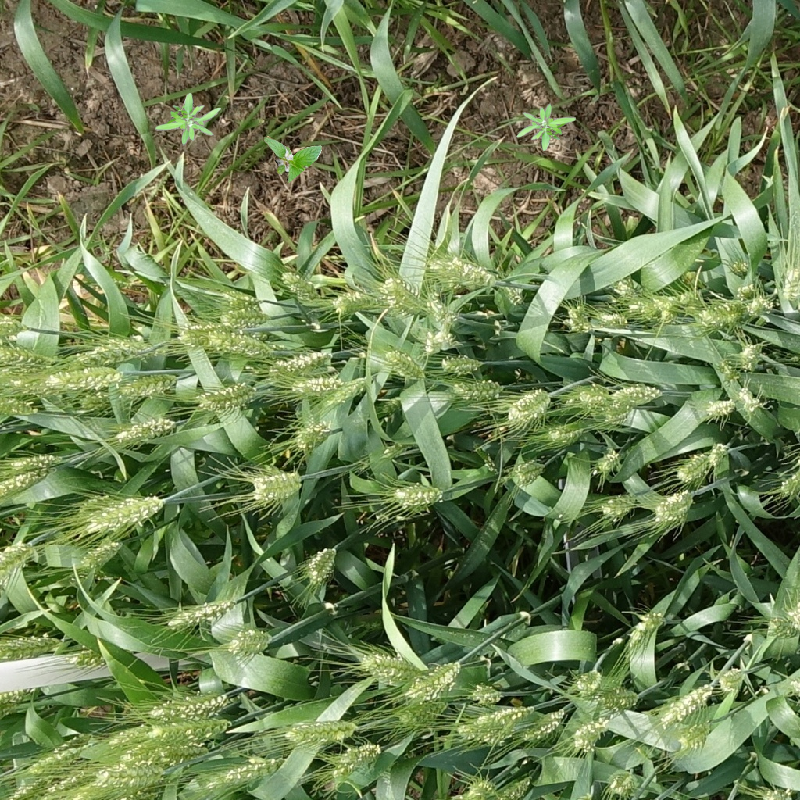spikelet: (82, 494, 164, 533), (458, 702, 535, 742), (657, 683, 713, 726), (69, 334, 148, 364), (150, 692, 230, 721), (406, 658, 462, 698), (209, 754, 275, 787), (357, 650, 421, 684), (97, 758, 167, 789), (623, 291, 685, 326), (283, 716, 357, 745), (166, 599, 230, 632), (38, 764, 96, 799), (44, 365, 121, 391), (206, 328, 270, 358), (442, 256, 498, 290), (115, 414, 176, 445), (380, 276, 427, 314), (396, 695, 449, 728), (251, 469, 302, 503), (199, 381, 258, 410), (26, 744, 82, 774), (506, 387, 551, 424), (1, 632, 56, 662), (269, 350, 330, 377), (695, 297, 746, 329), (332, 741, 380, 775), (625, 609, 664, 649), (521, 709, 565, 744), (448, 377, 503, 404), (652, 489, 694, 524), (392, 482, 442, 510), (589, 684, 639, 712), (608, 382, 663, 407), (120, 373, 175, 398), (382, 349, 424, 381), (302, 546, 337, 583), (228, 627, 271, 657), (219, 298, 265, 326), (79, 539, 122, 568), (675, 451, 713, 483), (1, 469, 42, 498), (292, 420, 331, 450), (572, 718, 608, 750), (279, 271, 316, 302), (291, 374, 342, 396), (509, 456, 544, 488), (572, 384, 613, 411), (105, 723, 153, 746), (1, 684, 39, 712), (765, 608, 799, 639), (1, 542, 31, 577), (7, 452, 61, 471), (599, 492, 636, 519), (678, 722, 711, 750), (494, 776, 532, 800), (571, 668, 603, 696), (332, 289, 366, 315), (440, 353, 482, 374), (606, 770, 636, 798), (733, 386, 761, 416), (422, 328, 454, 354), (716, 666, 746, 693), (466, 776, 499, 800), (547, 425, 585, 445), (564, 304, 591, 332), (592, 310, 628, 331), (736, 342, 762, 371), (470, 682, 504, 704), (781, 264, 799, 305), (777, 465, 800, 497), (594, 447, 621, 474), (703, 398, 734, 420), (746, 293, 773, 317), (1, 313, 21, 342), (757, 785, 794, 799)
weed: (253, 112, 327, 185), (155, 93, 221, 146), (516, 103, 576, 151)
